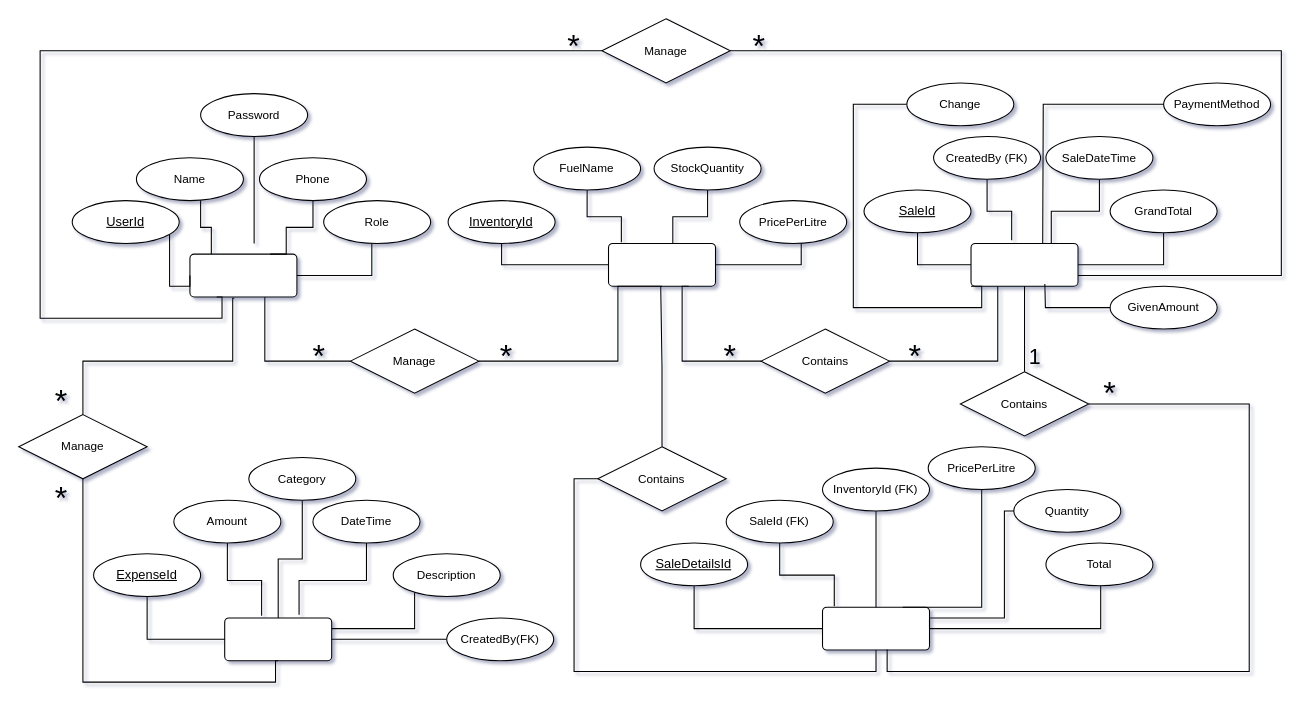
Image size: 1308x708. Some labels were removed from this diagram. Each missing label, with the centre of its shape:
Expenses: point (278, 639)
Inventories: point (661, 264)
SaleDetails: point (875, 628)
Sales: point (1024, 264)
Users: point (243, 275)
